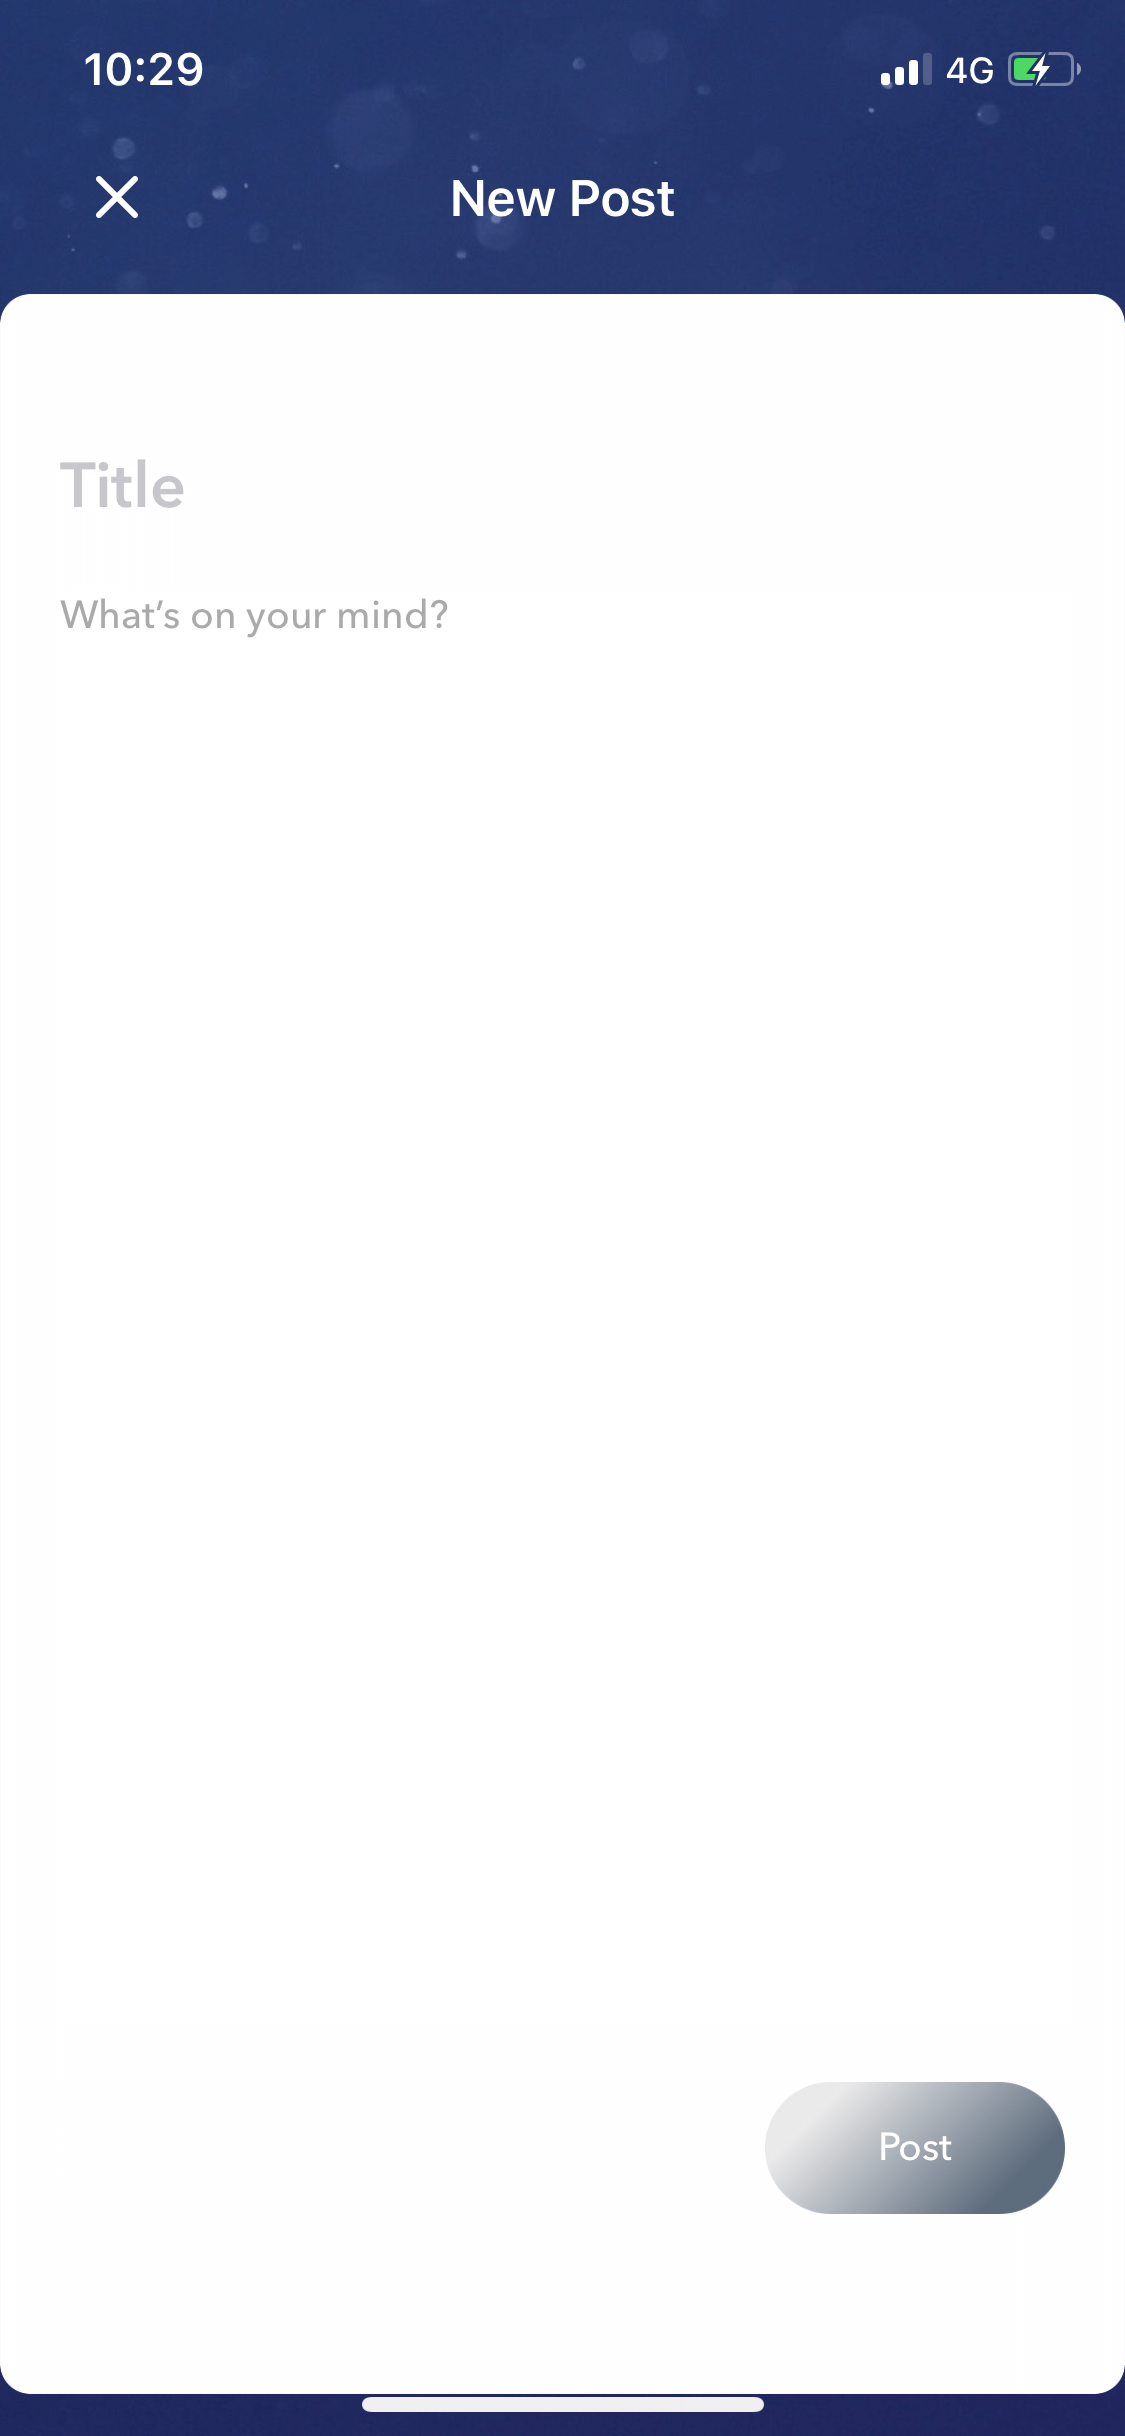Buttons: (765, 2066, 1075, 2223), (54, 141, 180, 259)
Text Fields: (53, 569, 1075, 2058), (44, 430, 1081, 550)
